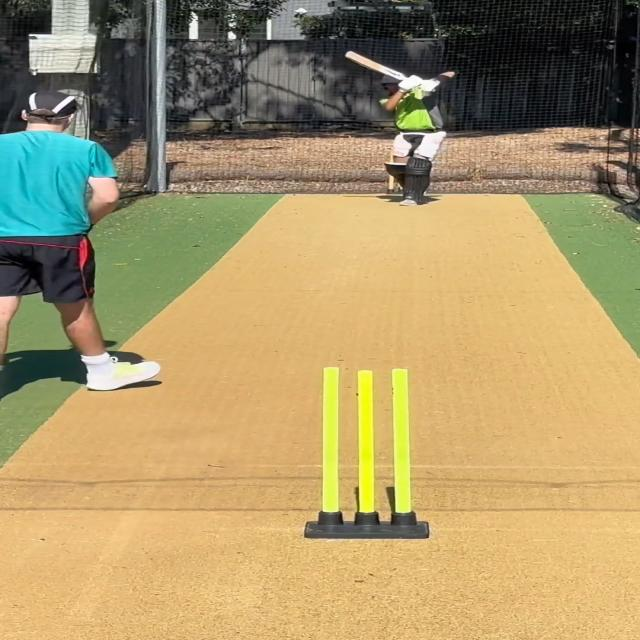stump: (304, 367, 433, 540)
